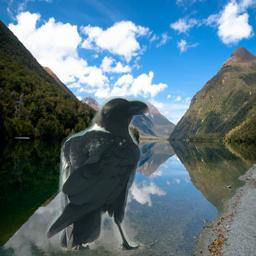Crow: (45, 96, 153, 251)
